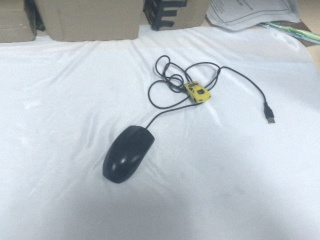box: (25, 1, 148, 45), (141, 1, 212, 33), (1, 1, 38, 44)
mouse: (101, 124, 157, 185)
toy_car: (184, 81, 212, 105)
